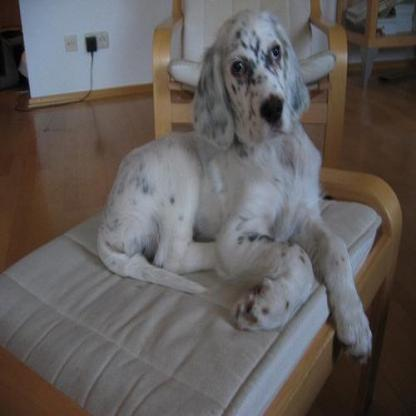English_setter: (97, 8, 372, 369)
